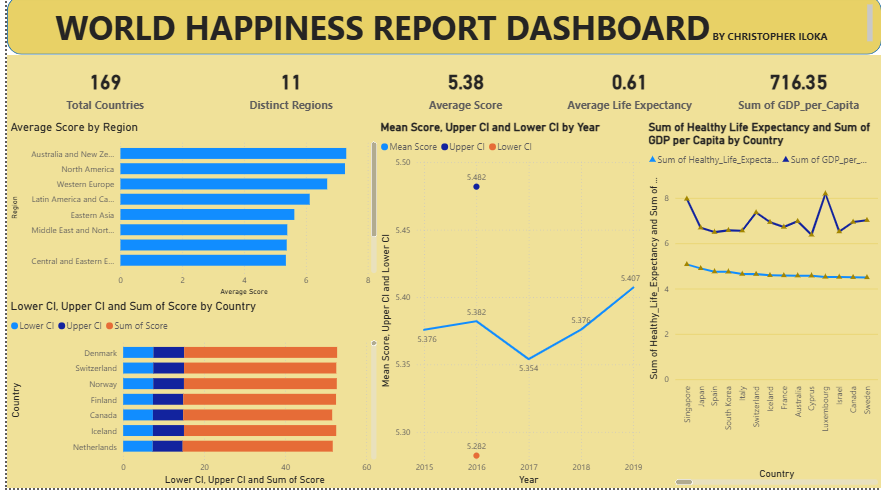

The page's visual inventory and layout, read from the dashboard file:
{"tool":"powerbi","page":{"name":"Page 2","canvas":[1280,720],"ordinal":1},"visuals":[{"type":"shape","box":[0,0,1280,85.7],"z":0},{"type":"textbox","box":[8.4,6.7,1263.2,68.9],"z":1},{"type":"card","fields":{"Values":["merged_happiness_data.Distinct Countries"]},"box":[0,85.7,287.2,95.7],"z":2},{"type":"card","fields":{"Values":["merged_happiness_data.Distinct Regions"]},"box":[273.8,85.7,283.9,95.7],"z":3},{"type":"card","fields":{"Values":["merged_happiness_data.Average Score"]},"box":[557.7,85.7,226.8,95.7],"z":4},{"type":"card","fields":{"Values":["Sum(merged_happiness_data.GDP_per_Capita)"]},"box":[1038.1,85.7,241.9,95.7],"z":5},{"type":"lineChart","title":"Sum of Healthy Life Expectancy and Sum of GDP per Capita by Country","fields":{"Y":["Sum(merged_happiness_data.Healthy_Life_Expectancy)","Sum(merged_happiness_data.GDP_per_Capita)"],"Category":["merged_happiness_data.Country"]},"box":[934,180.8,346,539.2],"z":6},{"type":"card","fields":{"Values":["merged_happiness_data.Average Life Expectancy"]},"box":[784.5,85.7,253.6,95.7],"z":7},{"type":"lineChart","fields":{"Category":["merged_happiness_data.Year"],"Y":["merged_happiness_data.Mean Score","merged_happiness_data.Upper CI","merged_happiness_data.Lower CI"]},"box":[540.9,180.8,393.1,539.2],"z":8},{"type":"clusteredBarChart","fields":{"Category":["merged_happiness_data.Region"],"Y":["merged_happiness_data.Average Score"]},"box":[0,181.4,545.9,262],"z":9},{"type":"barChart","fields":{"Category":["merged_happiness_data.Country"],"Y":["merged_happiness_data.Lower CI","merged_happiness_data.Upper CI","Sum(merged_happiness_data.Score)"]},"box":[0,442.8,545.9,277.2],"z":10}]}

Visuals, with their boxes in screenshot pixels (x1, y1, x2, y2), scaled from the page's 1280x720 canvas onto the 881x492 screenshot:
shape: (0, 0, 880, 59)
textbox: (6, 5, 875, 52)
card - merged_happiness_data.Distinct Countries: (0, 59, 198, 124)
card - merged_happiness_data.Distinct Regions: (188, 59, 384, 124)
card - merged_happiness_data.Average Score: (384, 59, 540, 124)
card - Sum(merged_happiness_data.GDP_per_Capita): (715, 59, 880, 124)
"Sum of Healthy Life Expectancy and Sum of GDP per Capita by Country" lineChart: (643, 124, 880, 491)
card - merged_happiness_data.Average Life Expectancy: (540, 59, 715, 124)
lineChart - merged_happiness_data.Year x merged_happiness_data.Mean Score: (372, 124, 643, 491)
clusteredBarChart - merged_happiness_data.Region x merged_happiness_data.Average Score: (0, 124, 376, 303)
barChart - merged_happiness_data.Country x merged_happiness_data.Lower CI: (0, 303, 376, 491)
